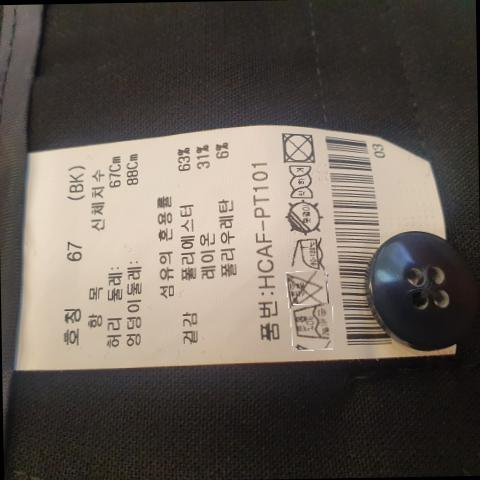DN_bleach: (286, 269, 327, 306)
DN_tumble_dry: (279, 128, 317, 165)
hand_wash: (291, 303, 336, 345)
iron_low: (291, 234, 325, 270)
line_dry_in_shade: (285, 198, 326, 235)
wring: (286, 162, 321, 200)
